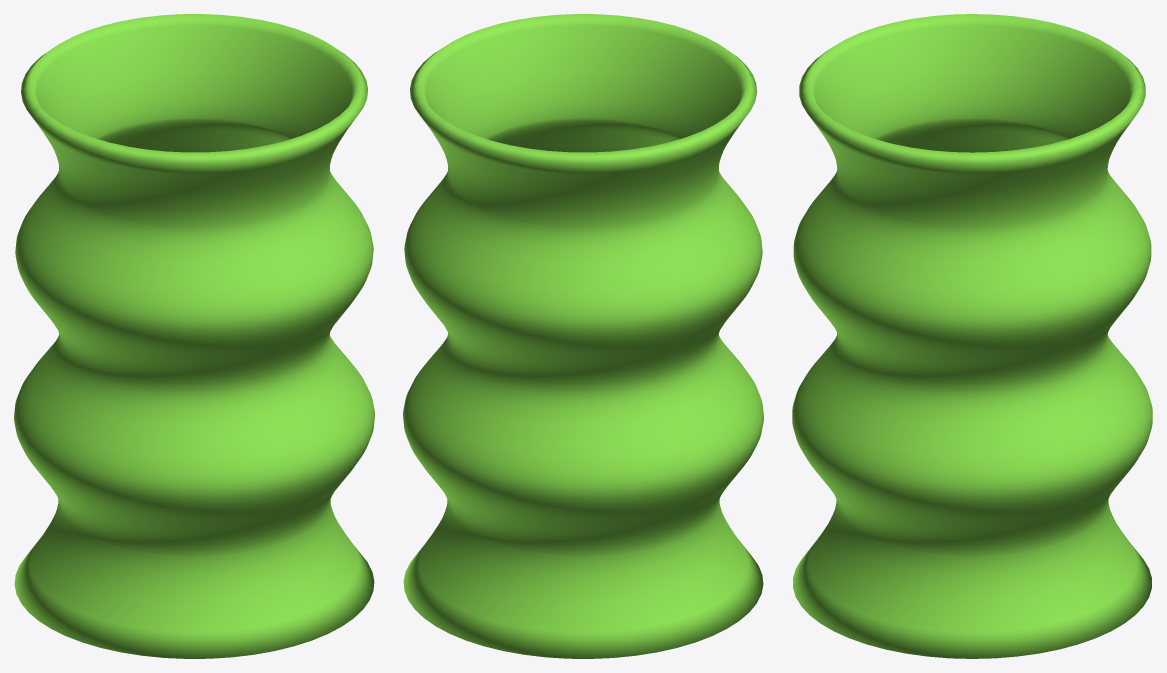
Rendered from DrinkGlass_8.fbx.
3 renders of one model, left to right at view 1: azimuth 30°, elevation 25°; view 2: azimuth 150°, elevation 25°; view 3: azimuth 270°, elevation 25°, orthographic.
Visible parts, largest first — view 1: DrinkGlass 8; view 2: DrinkGlass 8; view 3: DrinkGlass 8.
Part boxes in pixels (<box>): DrinkGlass 8: <box>14,14,374,658</box>; DrinkGlass 8: <box>403,14,763,658</box>; DrinkGlass 8: <box>792,14,1152,658</box>.
Size of the model in its own units: 0.0871 by 0.1332 by 0.0869.
